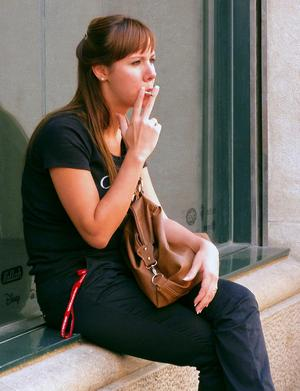person: (23, 11, 280, 391)
